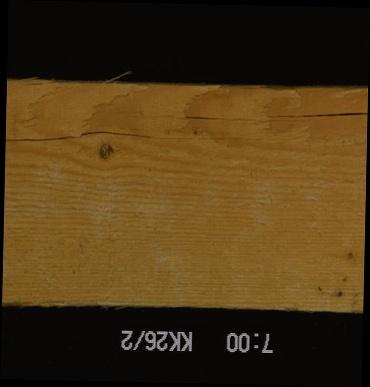small_knot: (345, 248, 355, 261)
sound_knot: (97, 142, 115, 162)
split: (123, 102, 366, 127), (5, 128, 276, 143)
